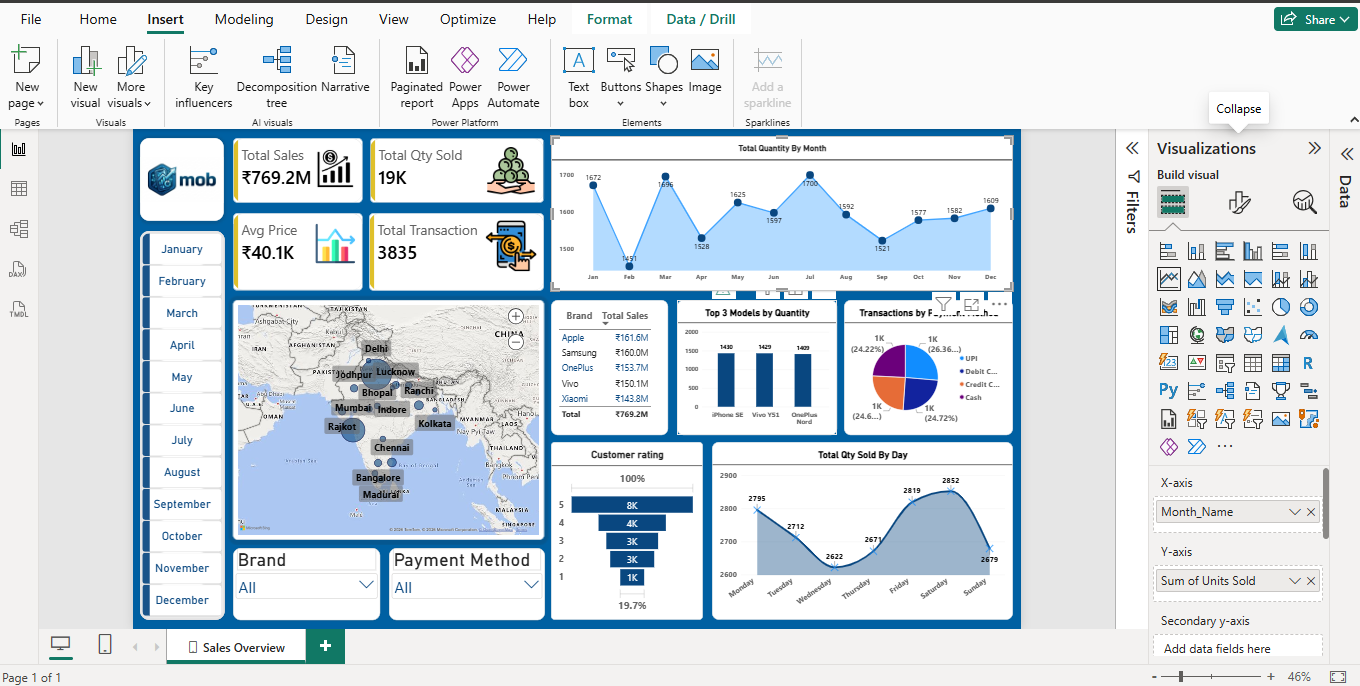

The dashboard page shown, as its layout file describes it:
{"tool":"powerbi","page":{"name":"Sales Overview","canvas":[1920,1080],"ordinal":0},"visuals":[{"type":"shape","box":[15,220,182.5,840],"z":0},{"type":"image","box":[15.1,19.4,181.4,179.3],"z":1000},{"type":"advancedSlicerVisual","fields":{"Values":["Sales_Data.Date.Variation.Date Hierarchy.Month"]},"box":[15,220,182.5,840],"z":2000},{"type":"cardVisual","fields":{"Data":["Measure.Total Transaction"]},"box":[509.8,181.4,378,168.5],"z":3000},{"type":"cardVisual","fields":{"Data":["Measure.Total_Qty_sold"]},"box":[511.9,19.4,375.8,140.4],"z":4000},{"type":"cardVisual","fields":{"Data":["Measure.Avg__Sales"]},"box":[215,182.5,280,167.5],"z":5000},{"type":"cardVisual","fields":{"Data":["Measure.Total_sales"]},"box":[215,20,280,140],"z":6000},{"type":"map","fields":{"Category":["Sales_Data.City"],"Size":["Measure.Total Sales"]},"box":[216,369.4,671.8,518.4],"z":7000},{"type":"slicer","fields":{"Values":["Sales_Data.Brand"]},"box":[216,905,317.5,155.5],"z":8000},{"type":"slicer","fields":{"Values":["Sales_Data.Payment Method"]},"box":[553,905,337,155.5],"z":9000},{"type":"lineChart","title":"Total Quantity By Month","fields":{"Category":["Sales_Data.Month_Name"],"Y":["Sum(Sales_Data.Units Sold)"]},"box":[902.9,15.1,997.9,334.8],"z":10000},{"type":"tableEx","fields":{"Values":["Sales_Data.Brand","Measure.Total_sales"]},"box":[902.9,369.4,252.7,291.6],"z":11000},{"type":"columnChart","title":"Top 3 Models by Quantity","fields":{"Category":["Sales_Data.Mobile Model"],"Y":["Measure.Total_Qty_sold"]},"box":[1175,369.4,345.6,291.6],"z":12000},{"type":"pieChart","title":"Transactions by Payment Method","fields":{"Category":["Sales_Data.Payment Method"],"Y":["Measure.Total_Transaction"]},"box":[1535.8,369.4,365,291.6],"z":13000},{"type":"funnel","title":"Customer rating","fields":{"Category":["Sales_Data.Customer Ratings"],"Y":["Measure.Total_Qty_sold"]},"box":[902.9,676.1,328.3,384.5],"z":14000},{"type":"areaChart","title":"Total Qty Sold By Day","fields":{"Category":["Sales_Data.Weekday_Name"],"Y":["Measure.Total_Qty_sold"]},"box":[1250.6,676.1,650.2,384.5],"z":15000}]}

Visuals, with their boxes on the page's 1920x1080 design canvas (x1, y1, x2, y2). These are canvas units, not pixel positions in the 1360x686 screenshot, which may show the page scaled, cropped or inside an application window:
shape: 15 220 198 1060
image: 15 19 196 199
advancedSlicerVisual - Sales_Data.Date.Variation.Date Hierarchy.Month: 15 220 198 1060
cardVisual - Measure.Total Transaction: 510 181 888 350
cardVisual - Measure.Total_Qty_sold: 512 19 888 160
cardVisual - Measure.Avg__Sales: 215 182 495 350
cardVisual - Measure.Total_sales: 215 20 495 160
map - Sales_Data.City x Measure.Total Sales: 216 369 888 888
slicer - Sales_Data.Brand: 216 905 534 1060
slicer - Sales_Data.Payment Method: 553 905 890 1060
"Total Quantity By Month" lineChart: 903 15 1901 350
tableEx - Sales_Data.Brand x Measure.Total_sales: 903 369 1156 661
"Top 3 Models by Quantity" columnChart: 1175 369 1521 661
"Transactions by Payment Method" pieChart: 1536 369 1901 661
"Customer rating" funnel: 903 676 1231 1061
"Total Qty Sold By Day" areaChart: 1251 676 1901 1061
